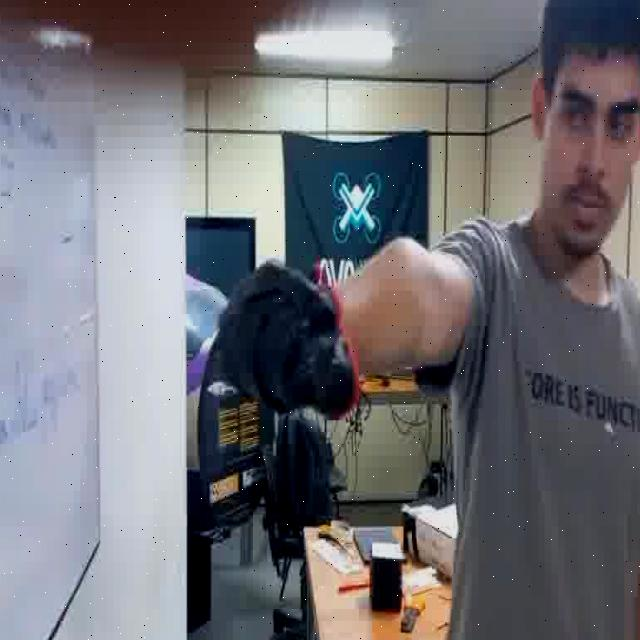Gloves: (220, 257, 357, 423)
